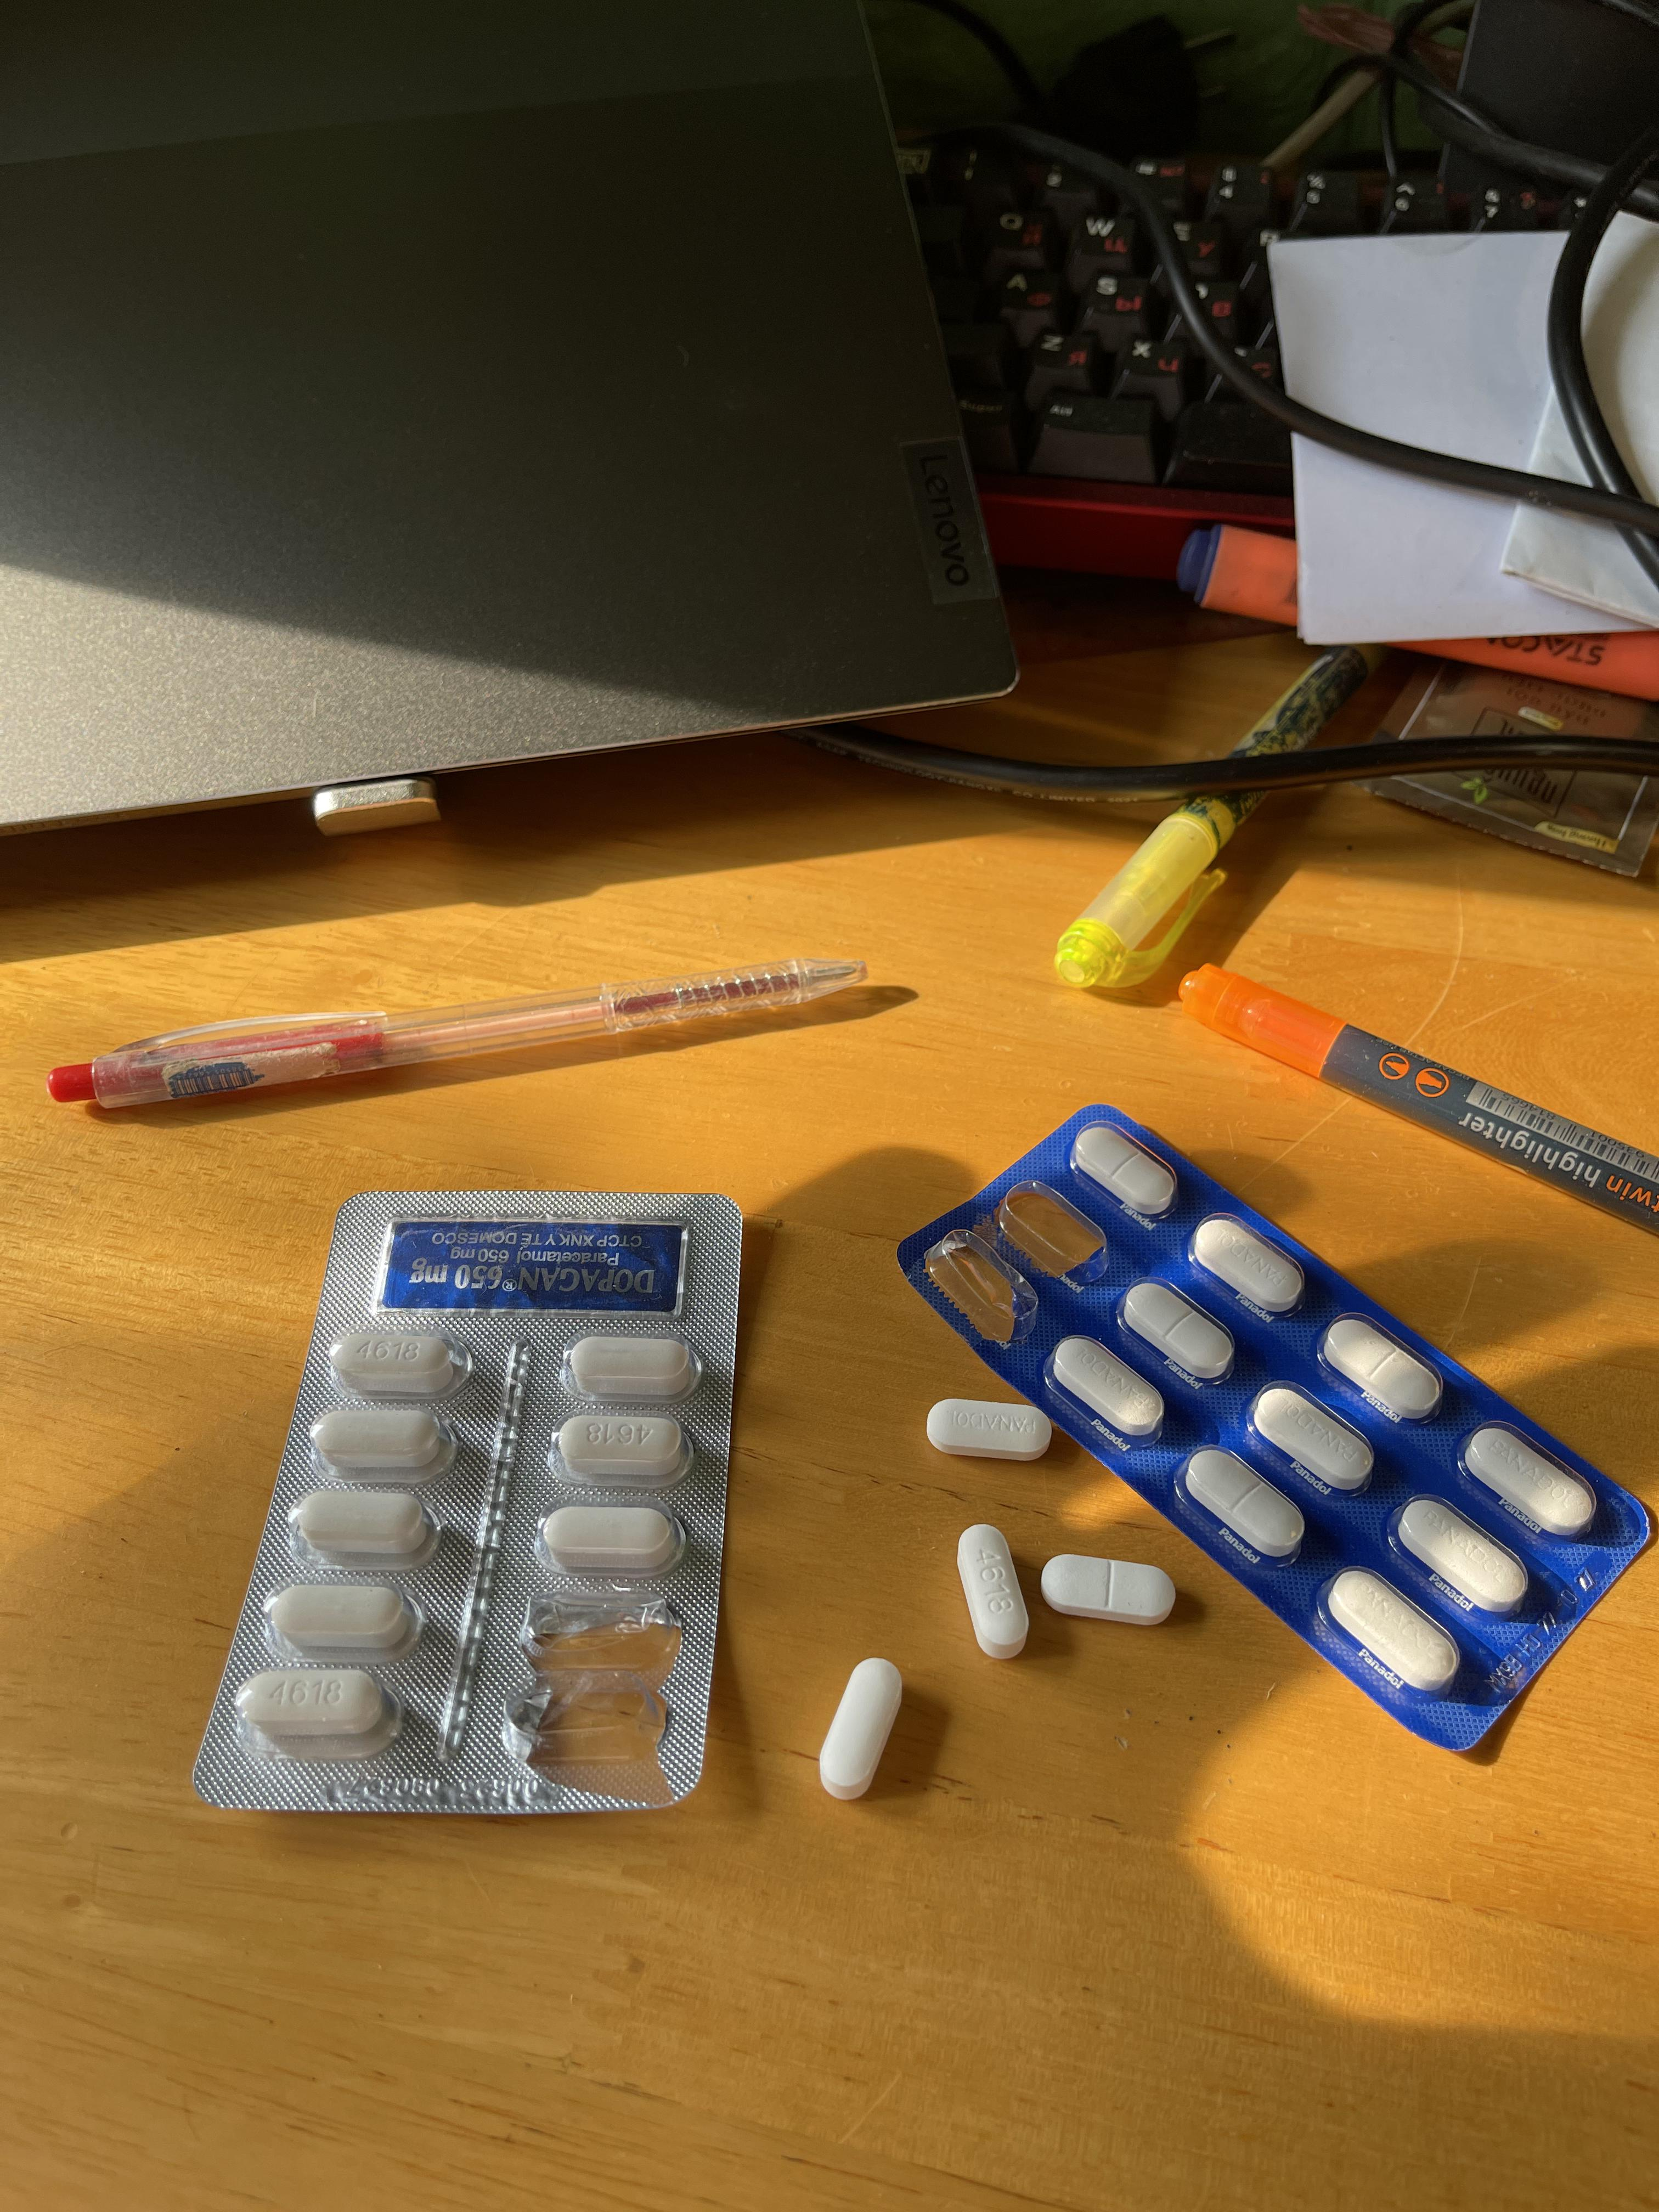Paracetamol_350mg: (1323, 1568, 1460, 1691), (1396, 1496, 1528, 1616), (1462, 1421, 1596, 1536), (1182, 1446, 1304, 1557), (1251, 1386, 1371, 1496), (1321, 1315, 1445, 1420), (1121, 1278, 1237, 1383), (1053, 1336, 1161, 1440), (1190, 1216, 1304, 1313), (1070, 1122, 1180, 1216), (1040, 1550, 1175, 1625), (925, 1397, 1049, 1465)
Paracetamol_500mg: (240, 1667, 401, 1761), (817, 1658, 903, 1804), (267, 1578, 418, 1660), (289, 1486, 436, 1569), (537, 1503, 680, 1575), (554, 1411, 690, 1486), (955, 1526, 1030, 1660), (333, 1325, 471, 1397), (308, 1407, 450, 1475), (566, 1336, 704, 1399)
